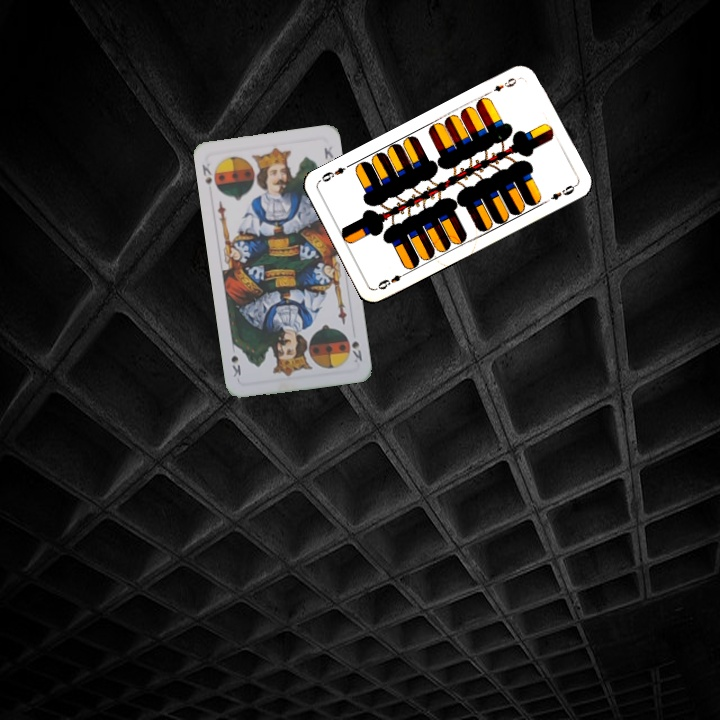E9: (374, 268, 410, 292), (489, 74, 522, 94)
SK: (198, 159, 215, 196), (348, 337, 365, 364)
